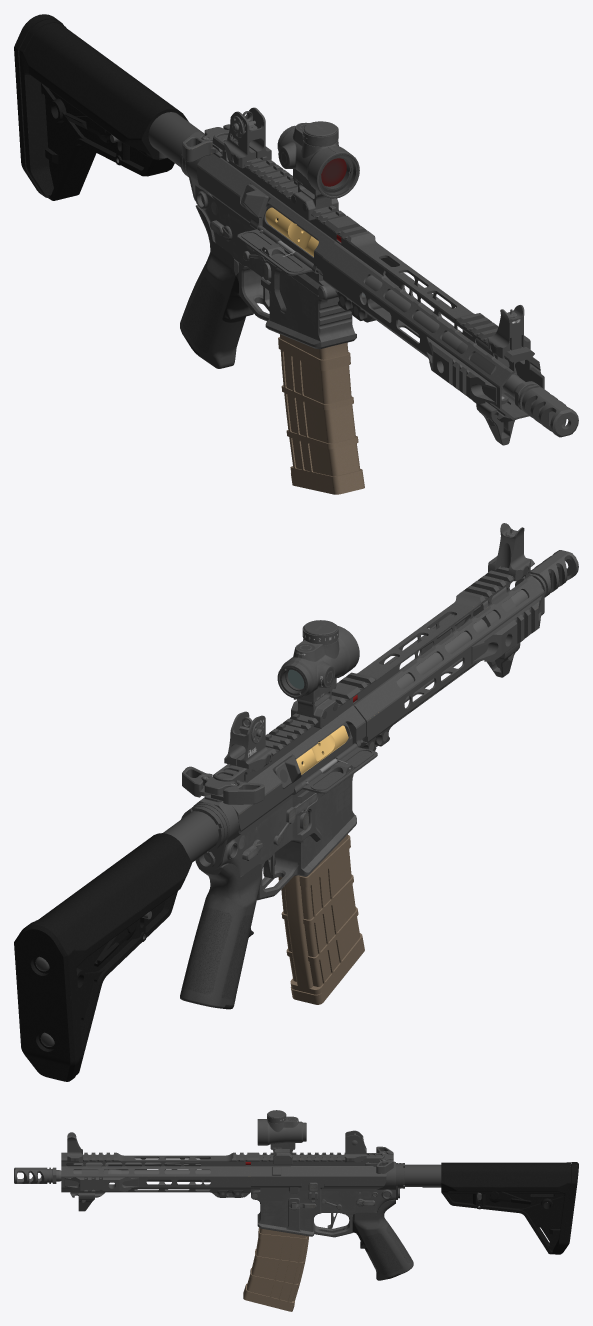
3 renders of one model, top to bottom at view 1: azimuth 30°, elevation 25°; view 2: azimuth 150°, elevation 25°; view 3: azimuth 270°, elevation 25°, orthographic. The views are drawn at different scales.
Visible parts, largest first — view 1: UpperReciever_low, UpperReciever_low_UpperReciever_0__misc, UpperReciever_low_UpperReciever_0; view 2: UpperReciever_low, UpperReciever_low_UpperReciever_0__misc, UpperReciever_low_UpperReciever_0; view 3: UpperReciever_low, UpperReciever_low_UpperReciever_0__misc, UpperReciever_low_UpperReciever_0.
Part boxes in pixels (x1,y1,x2,y2): UpperReciever_low: (14, 14, 364, 494); UpperReciever_low_UpperReciever_0__misc: (182, 108, 578, 445); UpperReciever_low_UpperReciever_0: (214, 107, 574, 444); UpperReciever_low: (14, 620, 364, 1081); UpperReciever_low_UpperReciever_0__misc: (182, 523, 576, 833); UpperReciever_low_UpperReciever_0: (214, 550, 578, 778); UpperReciever_low: (243, 1110, 578, 1311); UpperReciever_low_UpperReciever_0__misc: (14, 1131, 393, 1210); UpperReciever_low_UpperReciever_0: (14, 1130, 383, 1211).
Bounding box in the file's own units: 0.07 × 0.2895 × 0.7616.
4 materials, 4 textured.
